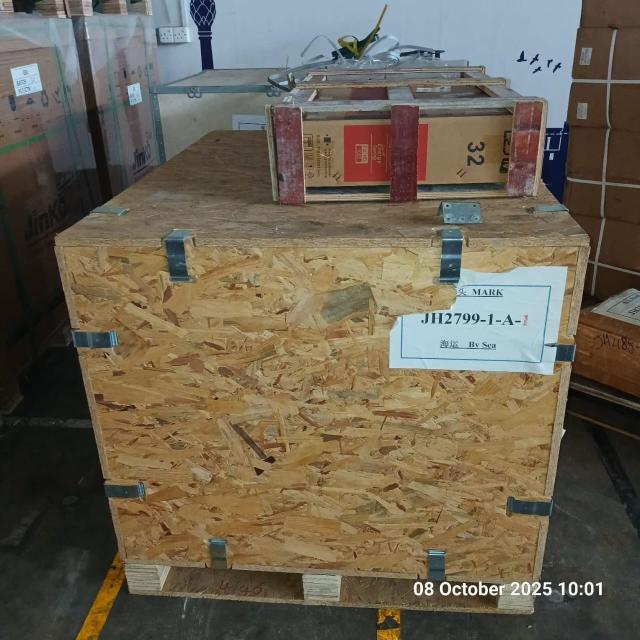export_mark_label: (381, 268, 569, 389)
wooden_box: (45, 131, 596, 595), (266, 45, 561, 216)
